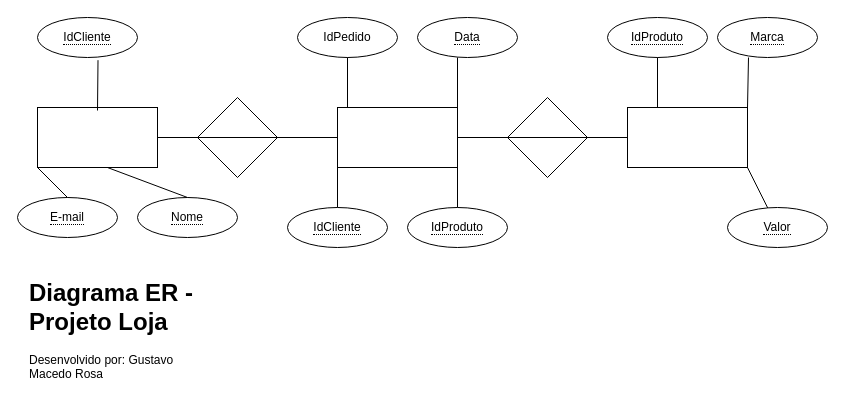
Some shapes in this 845 by 413 pixel diagram are drawn without their labels. Here are the shapes that lost their labels. From the top down, the box of each, then its label:
(36, 106, 158, 168): Clientes
(336, 106, 458, 168): Pedidos
(626, 106, 748, 168): Produtos
